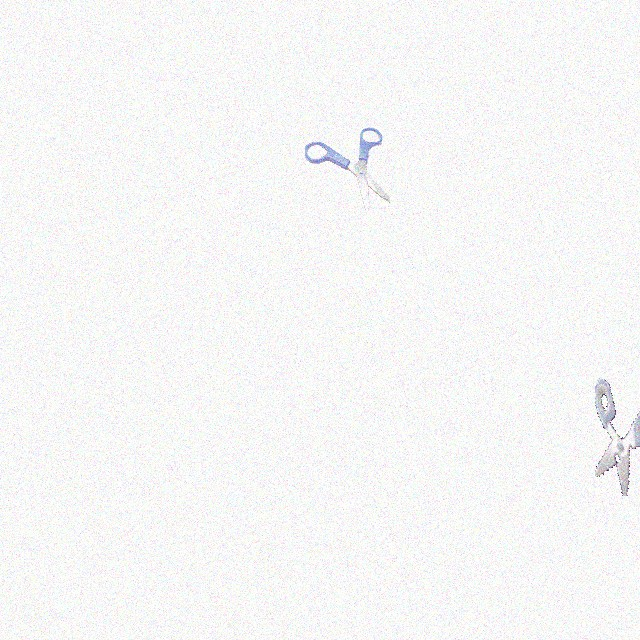scissors: (305, 127, 390, 210), (595, 378, 640, 496)
